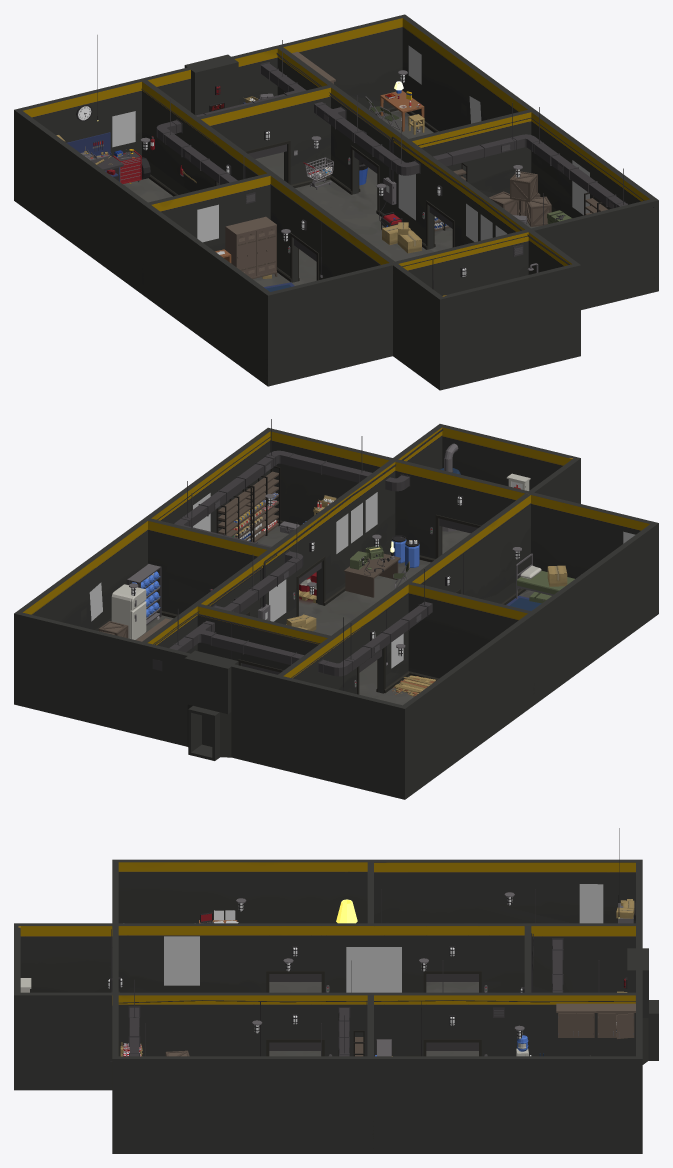
Rendered from Bunker.fbx.
3 renders of one model, top to bottom at view 1: azimuth 30°, elevation 25°; view 2: azimuth 150°, elevation 25°; view 3: azimuth 270°, elevation 25°, orthographic. The views are drawn at different scales.
Parts seen in each view (by area): view 1: Wall.020, Vents, Floor.007, locker_brown, Skirting, Wires, Workbench.001, Posters.010, Calendar, Box_wood.003, tool_shelf_red, Posters.003 (+2 smaller); view 2: Wall.020, Vents, Floor.007, Wires, Skirting, Fridge, Shelving_double.003, Table_wood_darkbrown, Shelving_double.002, Bed_green_2, Shelving.002, Radio (+1 smaller); view 3: Wall.020, Map_city, Vents, Posters.006, Floor.007, cabinet_upper_opened, cabinet_upper, Skirting, Wires, Posters.011, Lamp_ceiling.001, Lamp_walls.
Part boxes in pixels (<box>): Wall.020: <box>14,14,658,390</box>; Vents: <box>156,40,627,256</box>; Floor.007: <box>123,110,538,286</box>; locker_brown: <box>225,216,277,278</box>; Skirting: <box>148,107,454,282</box>; Wires: <box>141,53,654,289</box>; Workbench.001: <box>67,132,123,181</box>; Posters.010: <box>112,111,135,147</box>; Calendar: <box>197,204,218,242</box>; Box_wood.003: <box>510,171,537,202</box>; tool_shelf_red: <box>113,149,141,183</box>; Posters.003: <box>398,174,415,220</box>; Wall.020: <box>14,424,658,799</box>; Vents: <box>152,419,432,676</box>; Floor.007: <box>139,526,534,705</box>; Wires: <box>153,428,531,678</box>; Skirting: <box>157,514,526,694</box>; Fridge: <box>111,584,146,639</box>; Shelving_double.003: <box>245,466,280,542</box>; Table_wood_darkbrown: <box>344,553,400,597</box>; Shelving_double.002: <box>216,486,252,541</box>; Bed_green_2: <box>516,553,574,598</box>; Shelving.002: <box>126,563,161,625</box>; Radio: <box>350,545,389,575</box>; Wall.020: <box>14,859,658,1153</box>; Map_city: <box>346,947,401,992</box>; Vents: <box>128,889,599,1056</box>; Posters.006: <box>164,936,199,985</box>; Floor.007: <box>269,982,478,1056</box>; cabinet_upper_opened: <box>596,1003,635,1038</box>; cabinet_upper: <box>556,1003,596,1037</box>; Skirting: <box>111,971,481,1056</box>; Wires: <box>110,929,635,1061</box>; Posters.011: <box>579,884,603,923</box>; Lamp_ceiling.001: <box>236,892,524,1038</box>; Lamp_walls: <box>108,946,627,1025</box>.
Size of the model in its own units: 3600 by 1397 by 4926.
